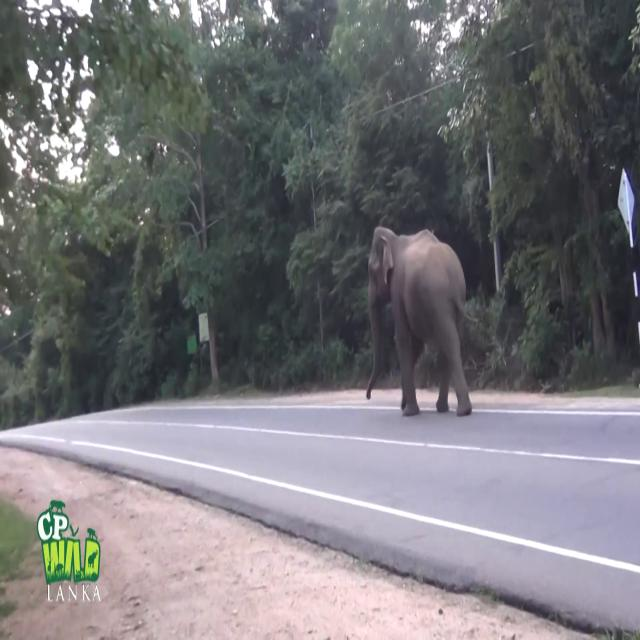Elephant: (366, 224, 472, 416)
